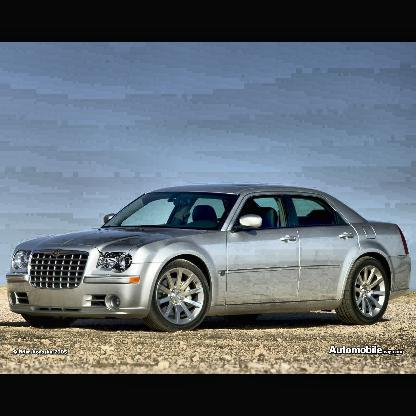Chrysler 300 SRT-8 2010: (6, 183, 412, 332)
